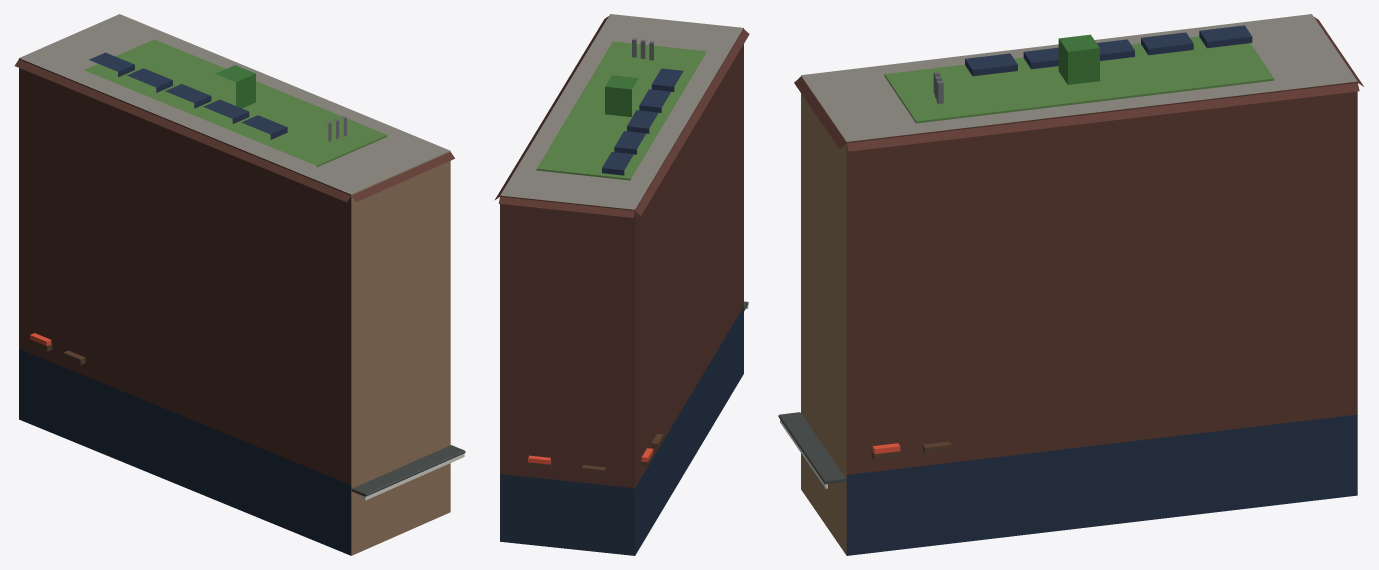
The picture shows the model from 3 angles, left to right: view 1: azimuth 30°, elevation 25°; view 2: azimuth 150°, elevation 25°; view 3: azimuth 270°, elevation 25°; orthographic projection. The views are drawn at different scales.
Parts seen in each view (by area): view 1: jan-evertsen-procedural-0363100012118917; view 2: jan-evertsen-procedural-0363100012118917; view 3: jan-evertsen-procedural-0363100012118917.
Part boxes in pixels (x1,y1,x2,y2): jan-evertsen-procedural-0363100012118917: (14, 14, 465, 555); jan-evertsen-procedural-0363100012118917: (494, 14, 749, 555); jan-evertsen-procedural-0363100012118917: (778, 14, 1363, 555).
Bounding box in the file's own units: 11.44 × 17.9 × 21.18.
